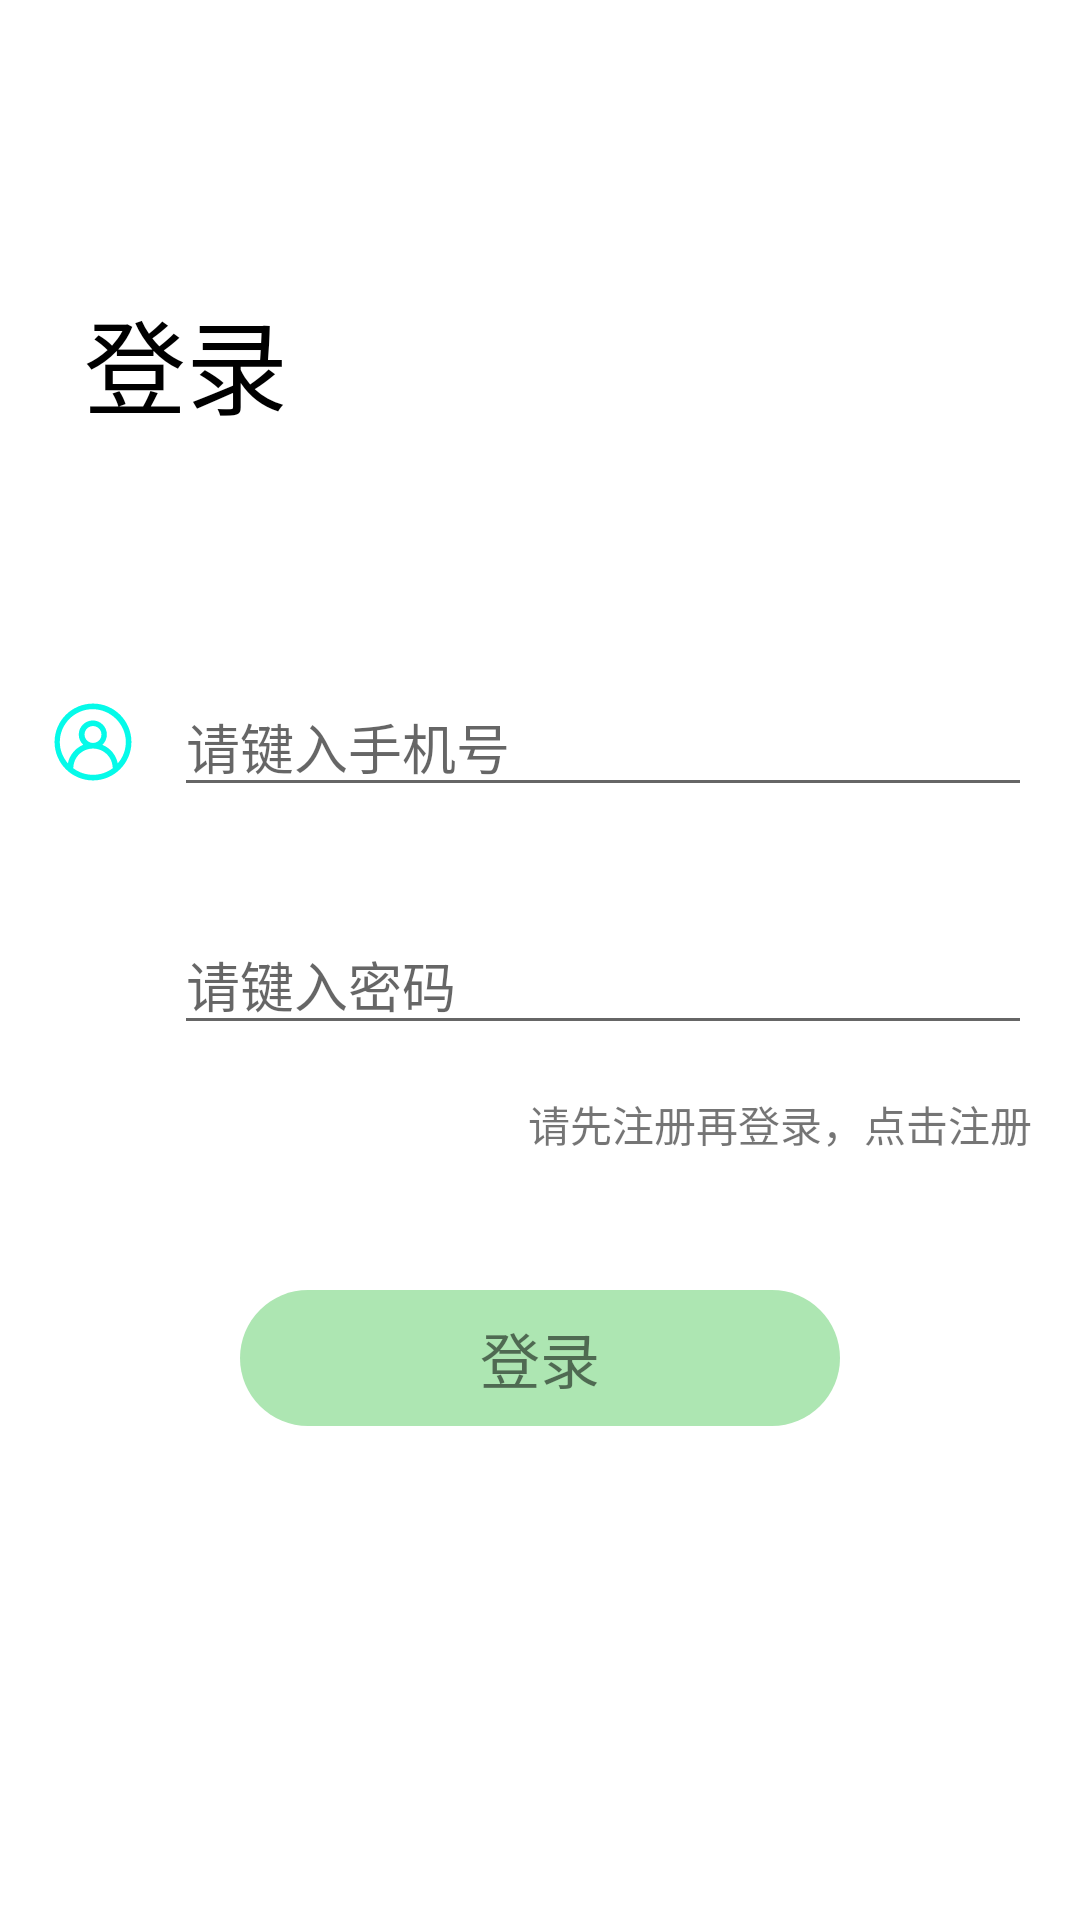

Icons on this 1080*1920 Android screen, each with its box as box(x1, y1, x2, y2):
mine: box(54, 703, 132, 781)
